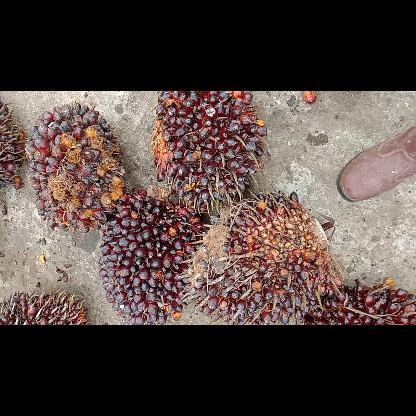Kurang masak: (182, 186, 344, 324), (95, 182, 209, 324), (148, 91, 270, 212), (22, 102, 132, 235)
